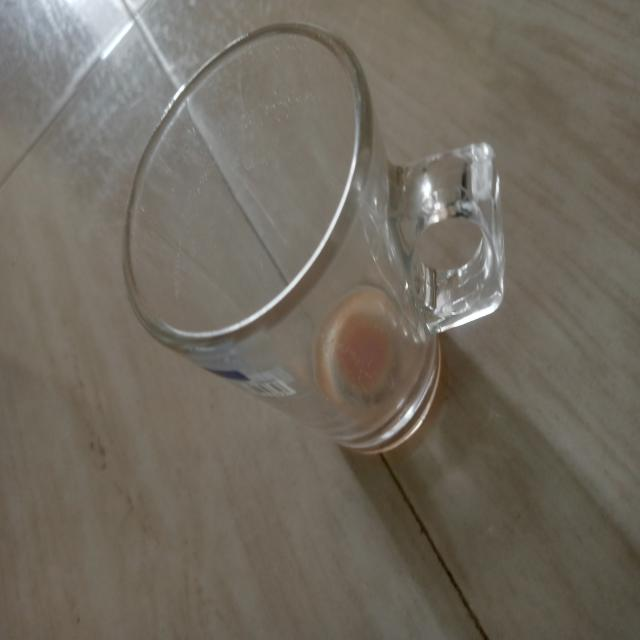glass-VX4N: (120, 23, 505, 458)
